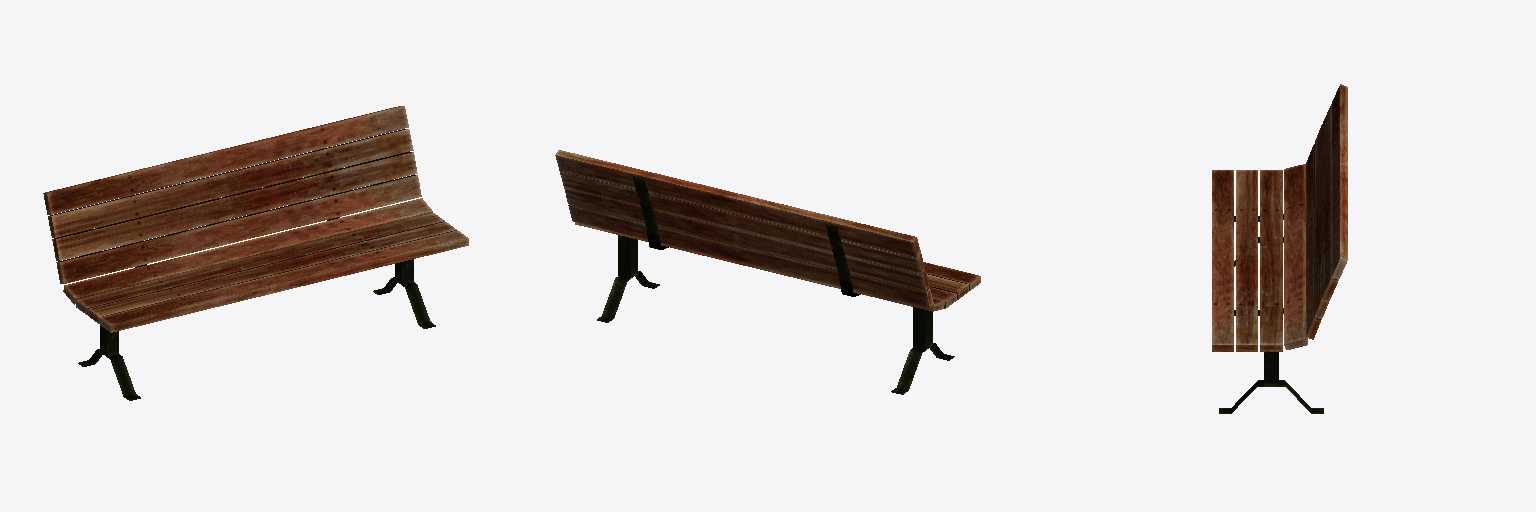
The picture shows the model from 3 angles: view 1: azimuth 30°, elevation 25°; view 2: azimuth 150°, elevation 25°; view 3: azimuth 270°, elevation 25°; orthographic projection.
Visible parts, largest first — view 1: streetbanch1; view 2: streetbanch1; view 3: streetbanch1.
Boxes of the visible parts, x1,y1,x2,y2 form: streetbanch1: [43, 106, 468, 400]; streetbanch1: [555, 150, 980, 394]; streetbanch1: [1212, 84, 1347, 413].
Bounding box in the file's own units: 1.12 × 0.5068 × 0.3698.
1 materials, 1 textured.